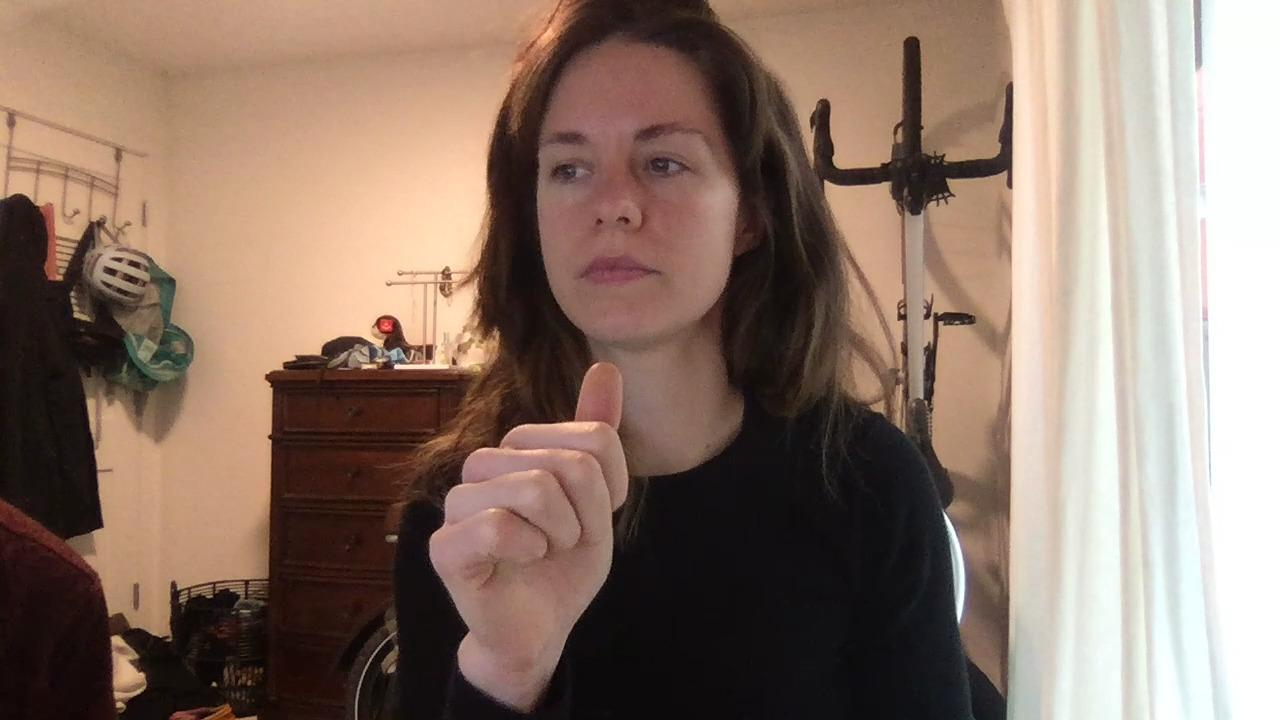face: (534, 68, 738, 348)
